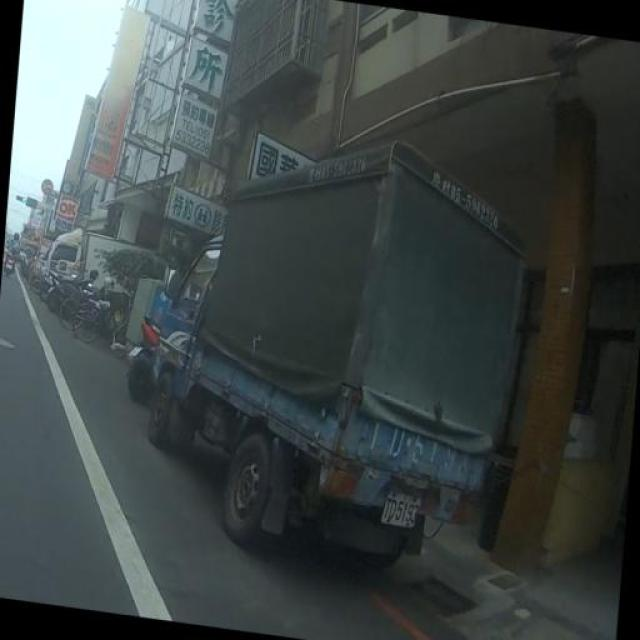illegalparking: (109, 121, 566, 593)
